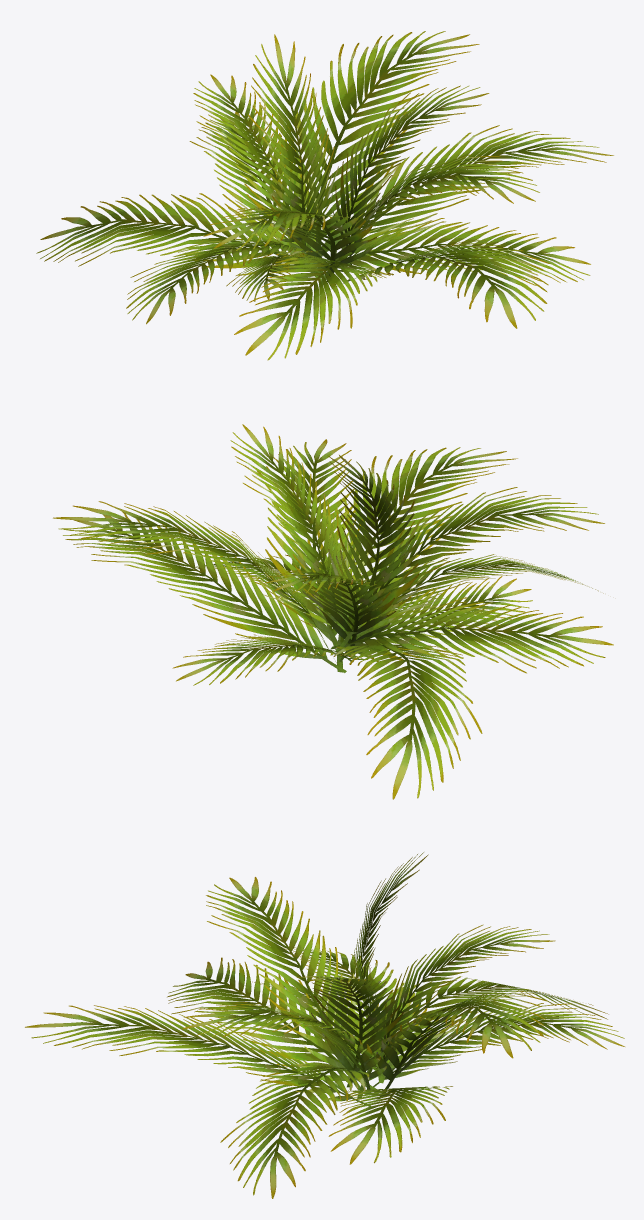
Rendered from SpikyFern.fbx.
The picture shows the model from 3 angles, top to bottom: view 1: azimuth 30°, elevation 25°; view 2: azimuth 150°, elevation 25°; view 3: azimuth 270°, elevation 25°; orthographic projection. The views are drawn at different scales.
Parts seen in each view (by area): view 1: SpikyFern; view 2: SpikyFern; view 3: SpikyFern.
Boxes of the visible parts, left/top/right/bottom form: SpikyFern: left=36, top=31, right=613, bottom=360; SpikyFern: left=53, top=424, right=613, bottom=799; SpikyFern: left=25, top=852, right=624, bottom=1198.
Bounding box in the file's own units: 0.8846 × 0.4191 × 0.8988.
1 material, 1 textured.
